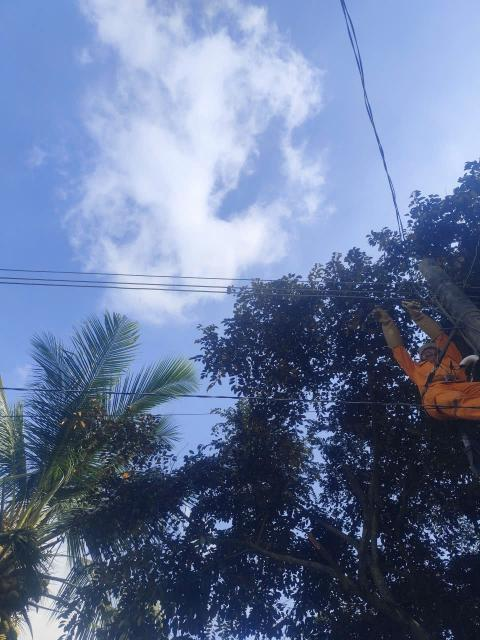gloves: (359, 299, 410, 352), (401, 292, 442, 339)
harness: (413, 374, 473, 390)
helmet: (406, 337, 451, 368)
